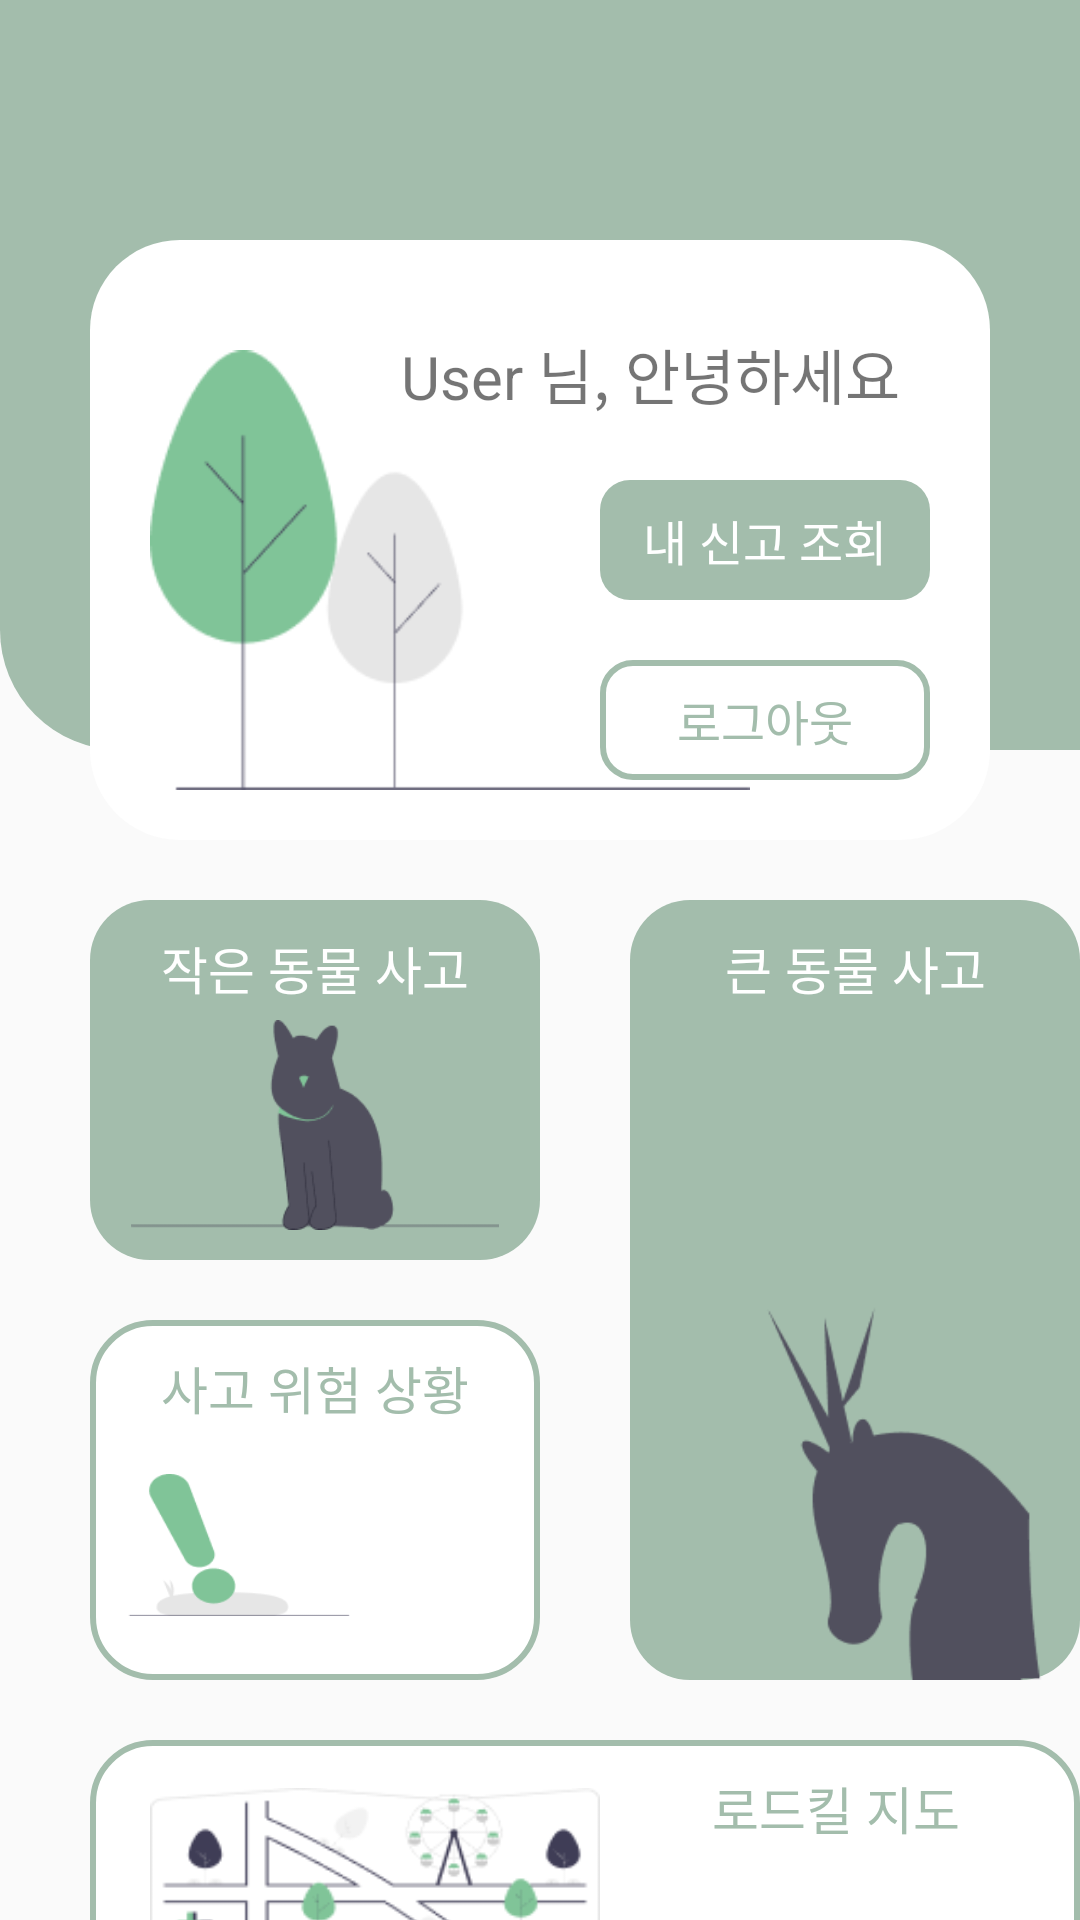

Point at icon controls on the screen. Image size 1080px x 1920px, points as point (x, y).
warning: point (239, 1545)
